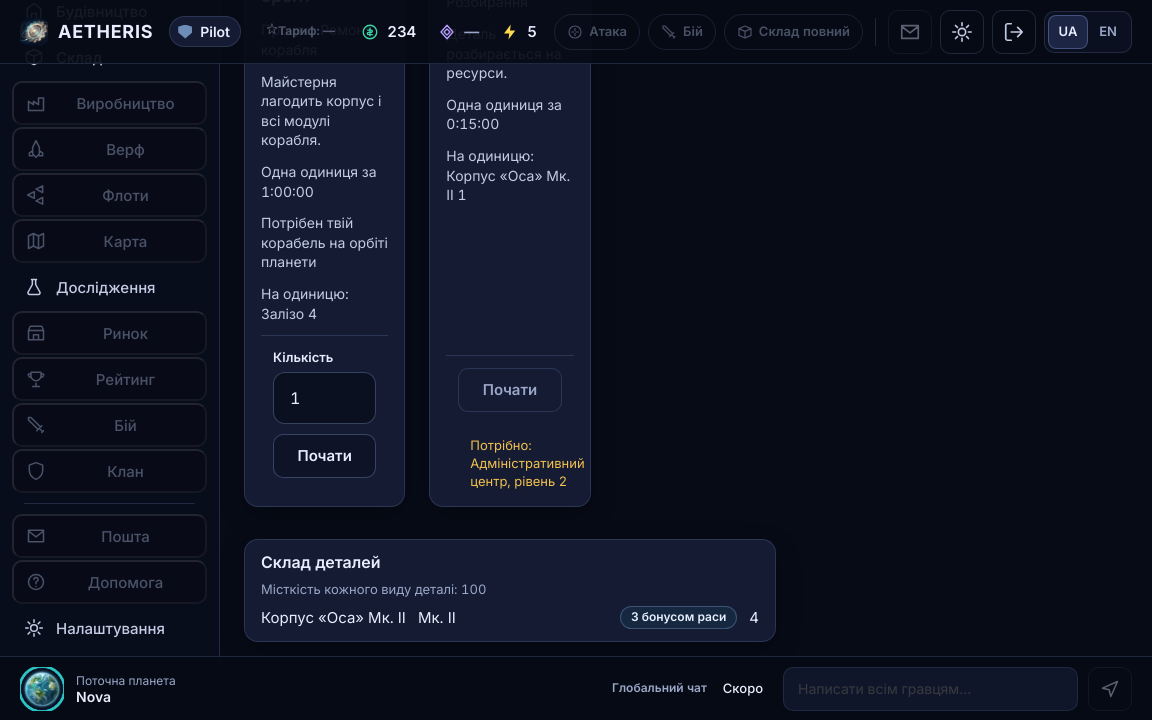
ProcessesPanel › keeps the button inactive when the balance is short, as a hint only
(page scrolled)
Four iron a unit and nine hundred on the body: three hundred units are too many.
Replace the text in the number field labelled "Кількість" with "300". click: (325, 398)
box: top-left (273, 372), bottom-right (376, 424)
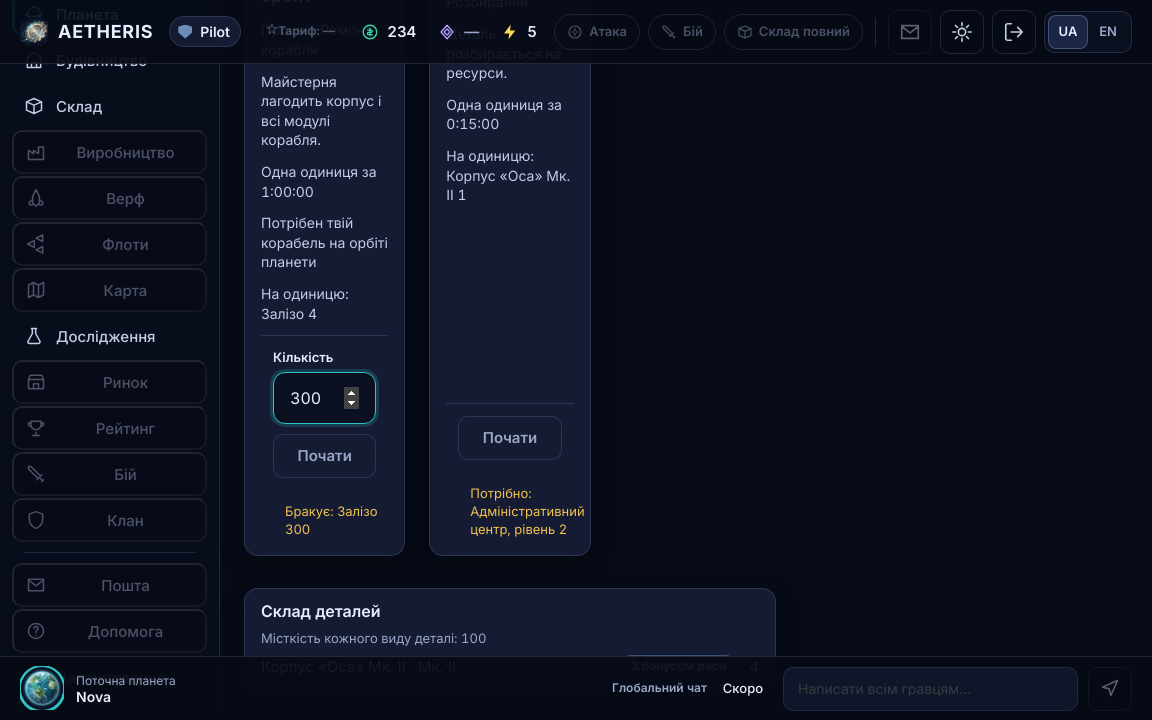
expect the button "Почати" below "Одна одиниця за 1:00:00" is disabled: met, box top-left (273, 434), bottom-right (376, 478)
expect the list item "Бракує: Залізо 300" is shown: met, box top-left (285, 502), bottom-right (388, 539)
